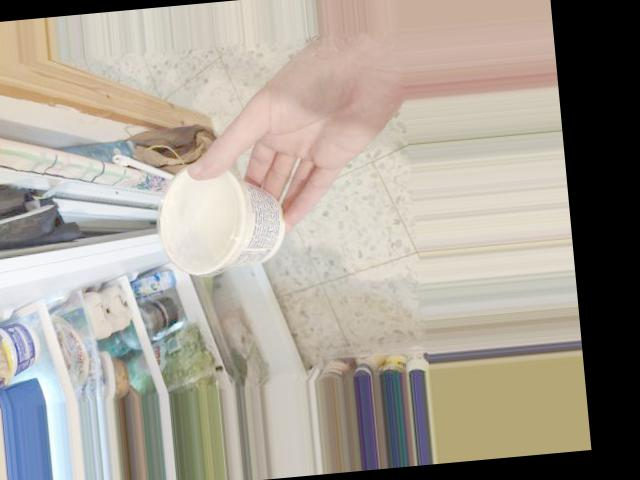cotage: (160, 161, 289, 270)
